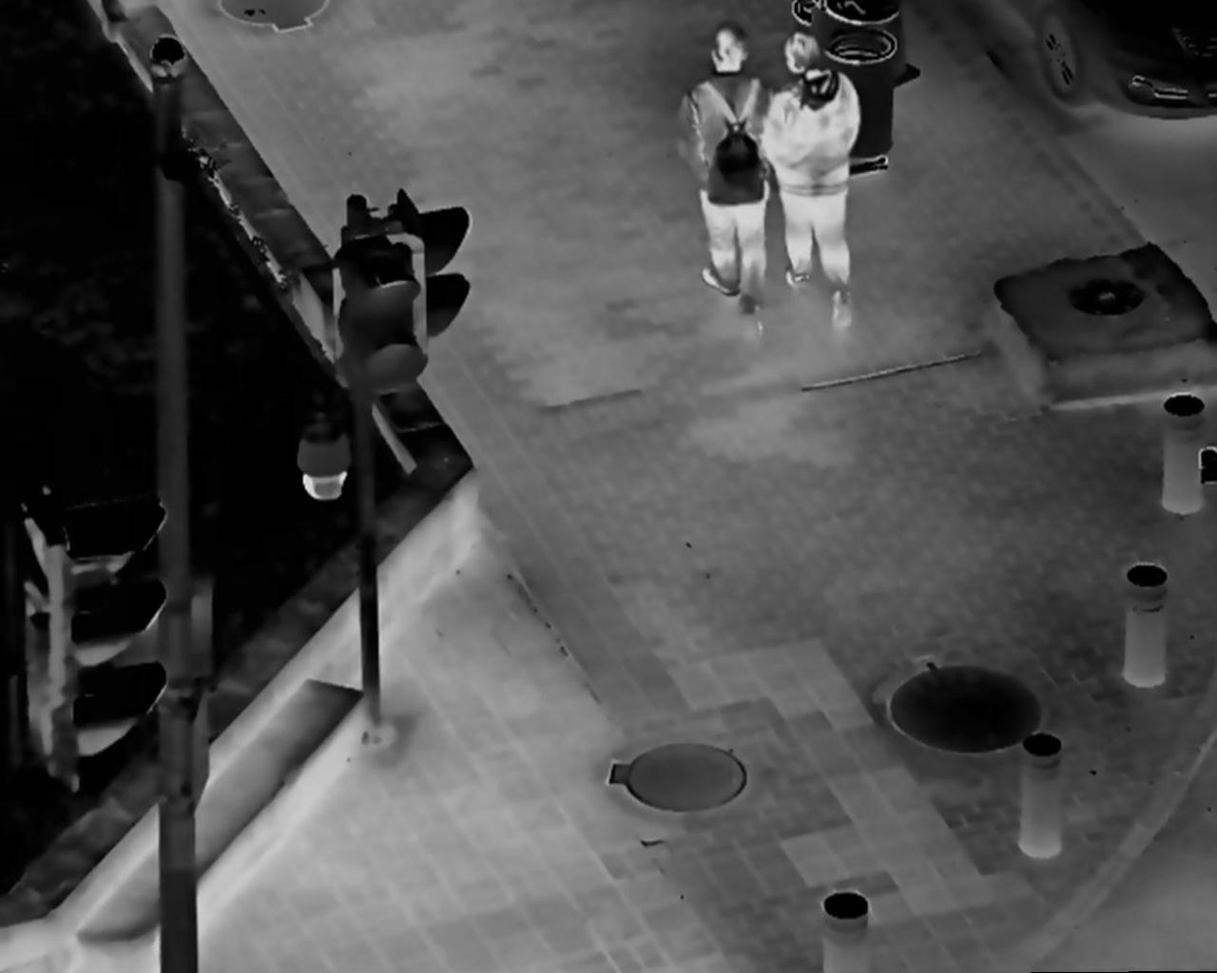person: (677, 21, 781, 321), (768, 38, 865, 334)
